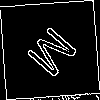M: (25, 25, 86, 86)
